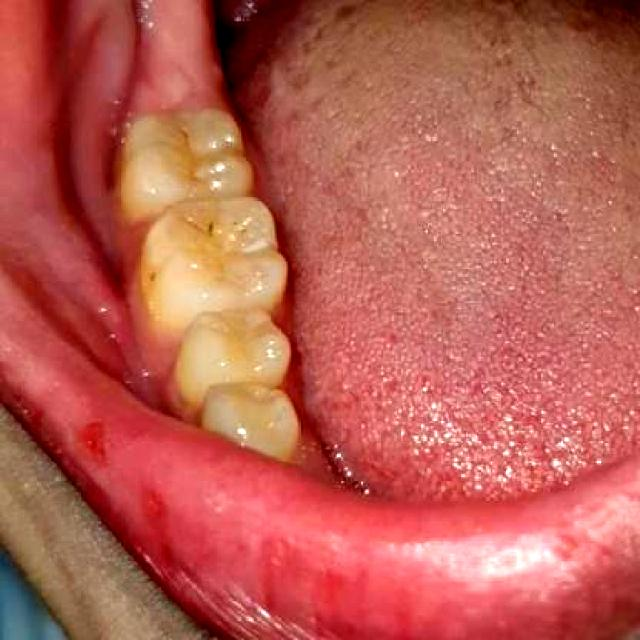Plaque: (177, 212, 218, 239), (178, 127, 195, 150), (143, 266, 161, 285)
